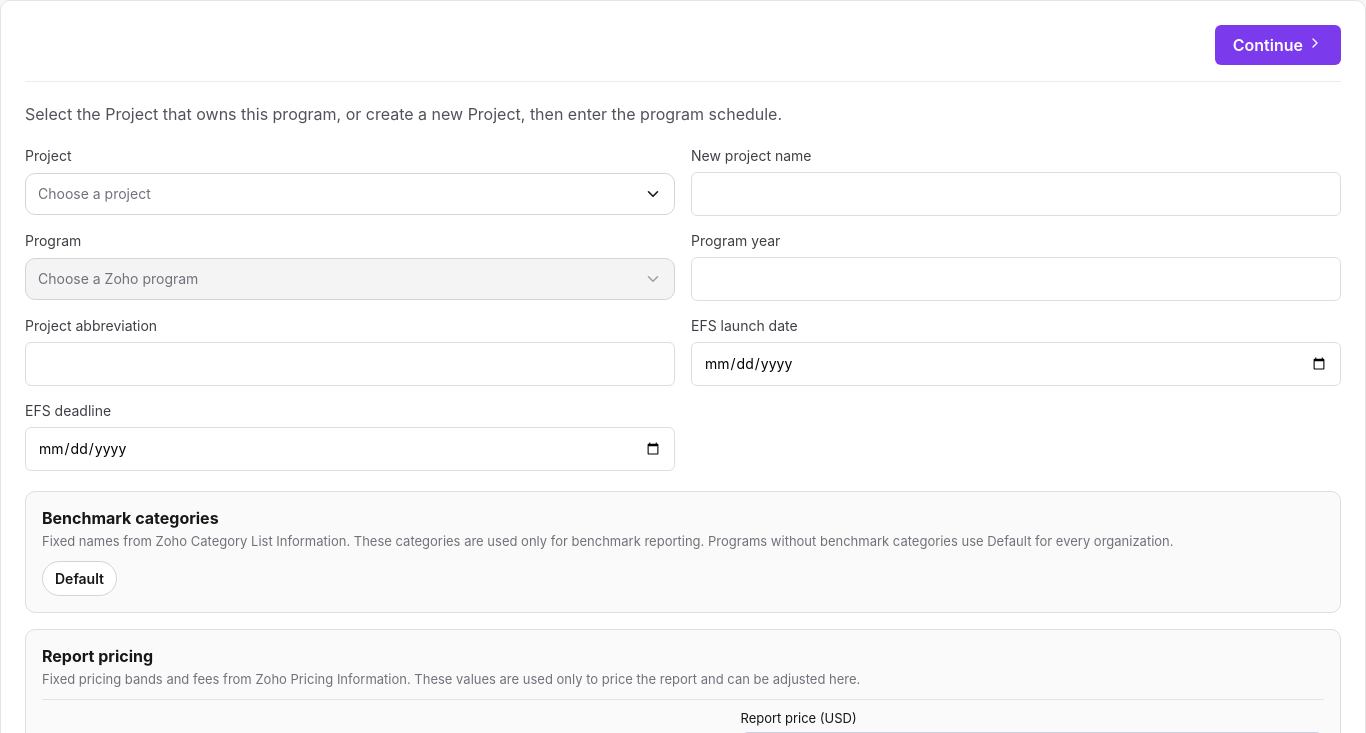
Test: historical import duplicate program check › offers the existing program and closes with Cancel or Escape
The image size is (1366, 733).
Select "Indiana" in the dropdown labelled "Project Choose a project": (350, 181) x1=25 y1=147 x2=675 y2=216
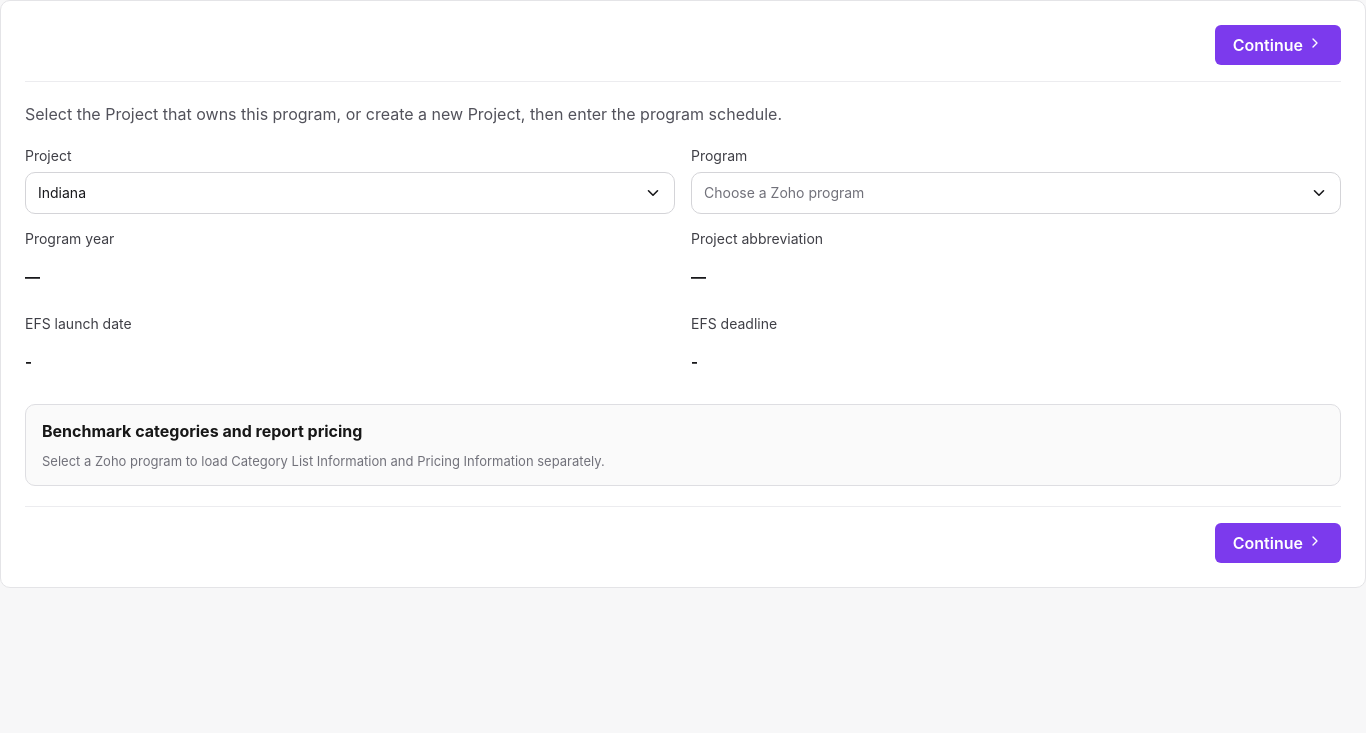
Select "Indiana 2026 (2026)" in the dropdown labelled "Program Choose a Zoho program": (1016, 180) x1=691 y1=147 x2=1341 y2=214
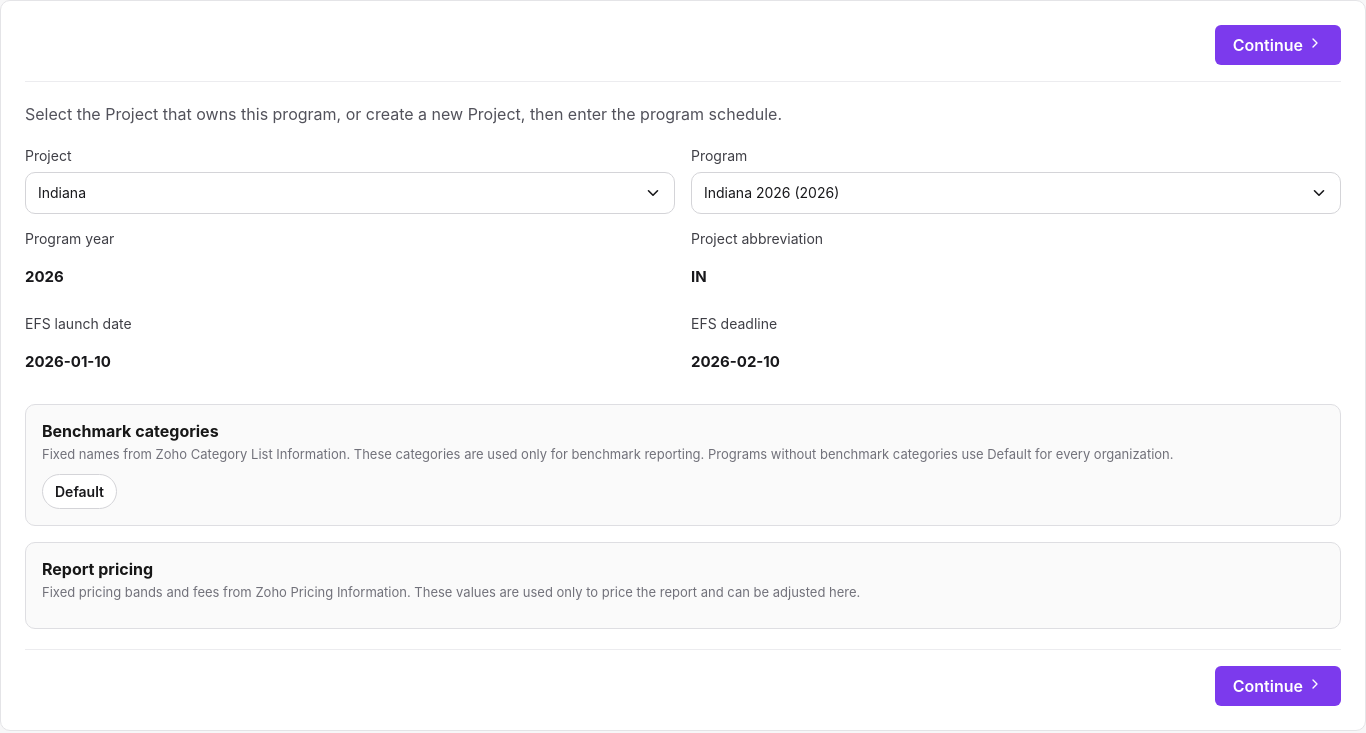
Click the 1st button "Continue": (1278, 45) x1=1215 y1=25 x2=1341 y2=65
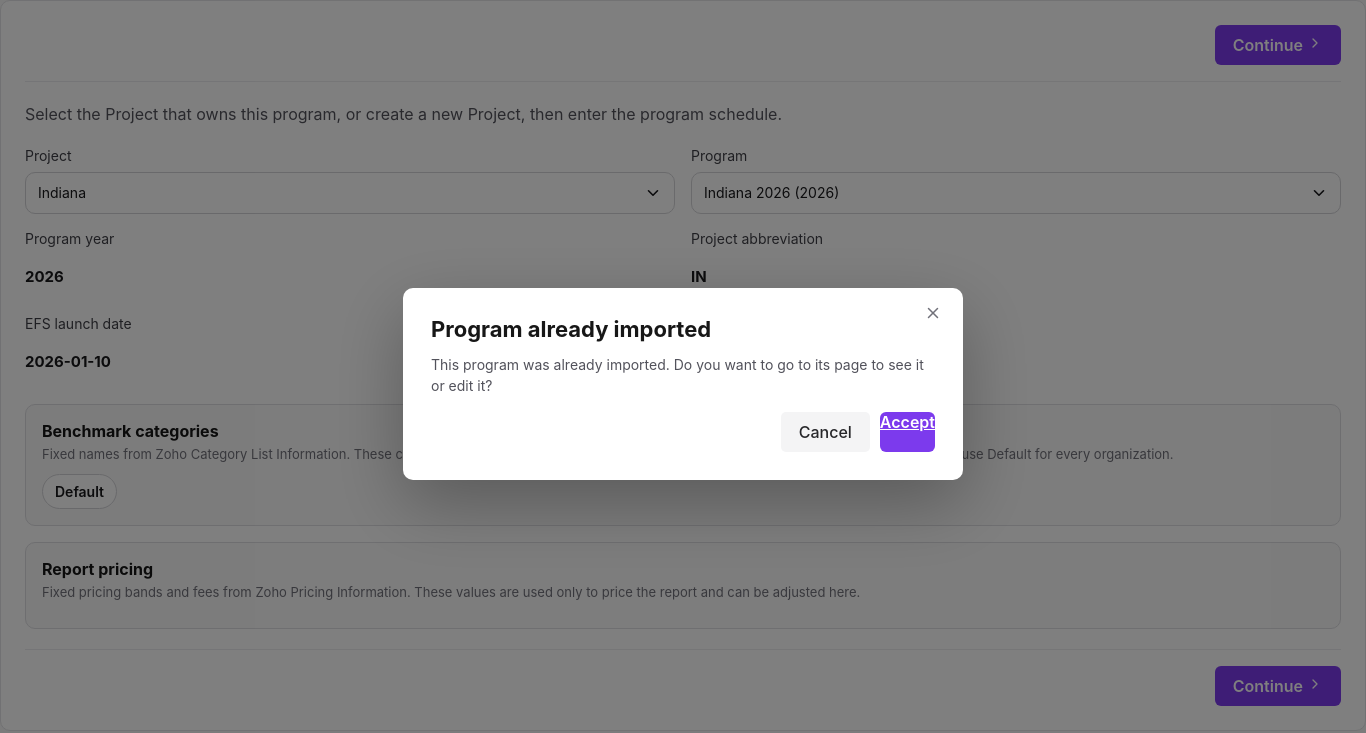
Expected: the dialog "Program already imported" is shown, x1=403 y1=288 x2=963 y2=480
Expected: the text "This program was already imported. Do you want to go to its page to see it or edit it?" is shown, x1=431 y1=356 x2=924 y2=394
Click the button "Cancel": (825, 432) x1=781 y1=412 x2=870 y2=452
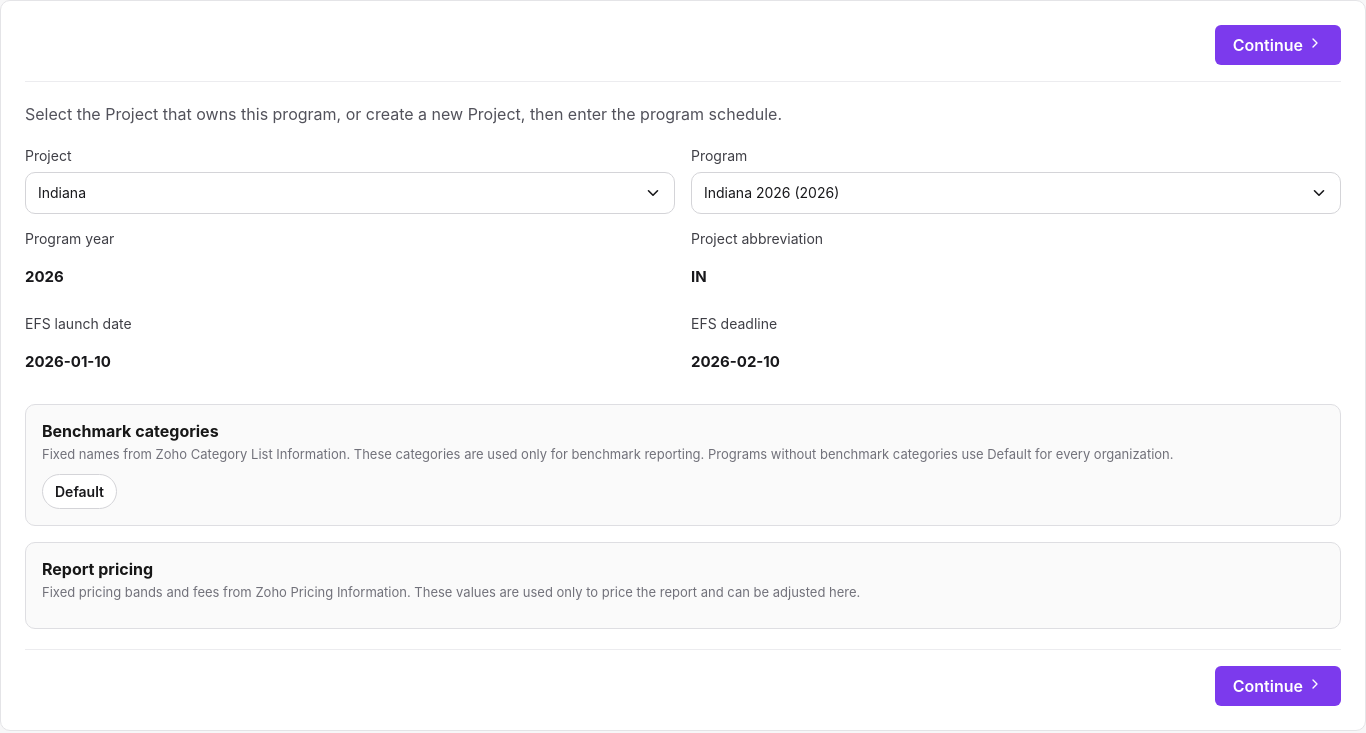
Expected: the dialog is gone
Click the 1st button "Continue": (1278, 45) x1=1215 y1=25 x2=1341 y2=65
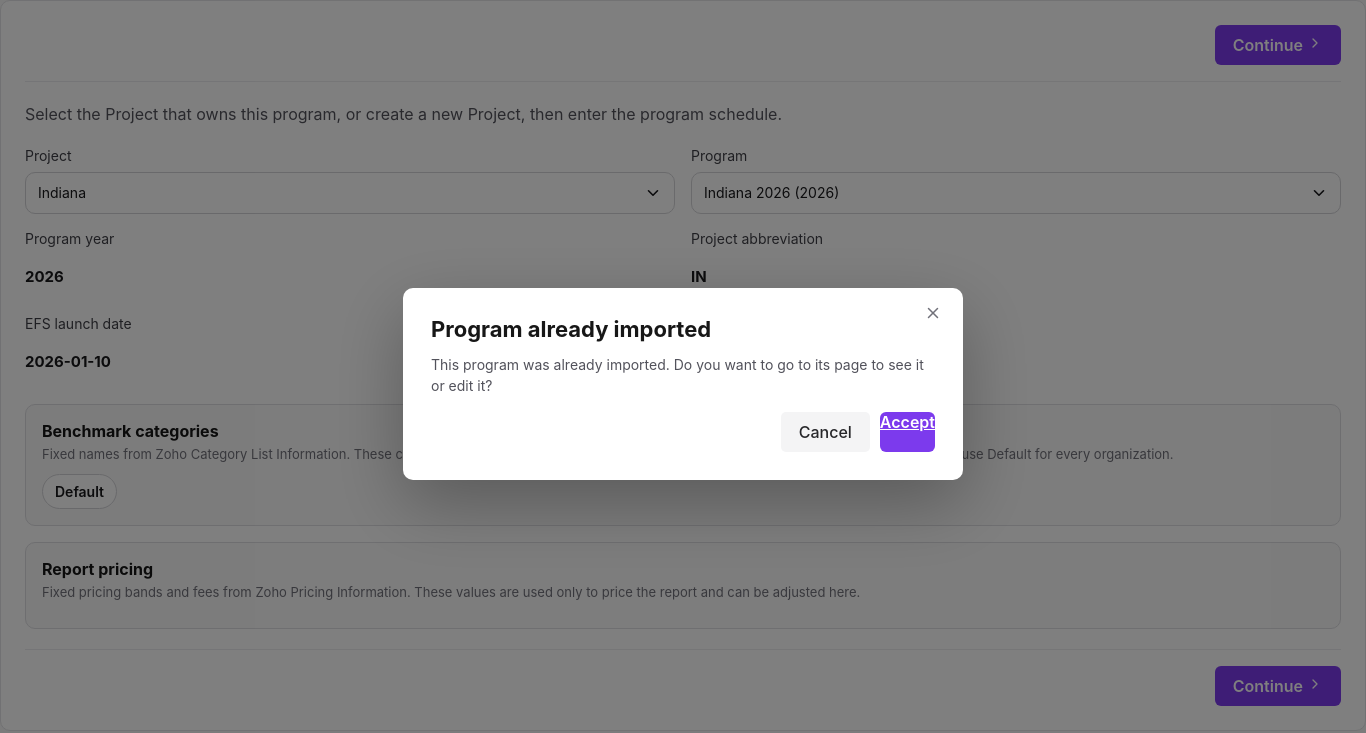
Expected: the dialog "Program already imported" is shown, x1=403 y1=288 x2=963 y2=480
Press Escape
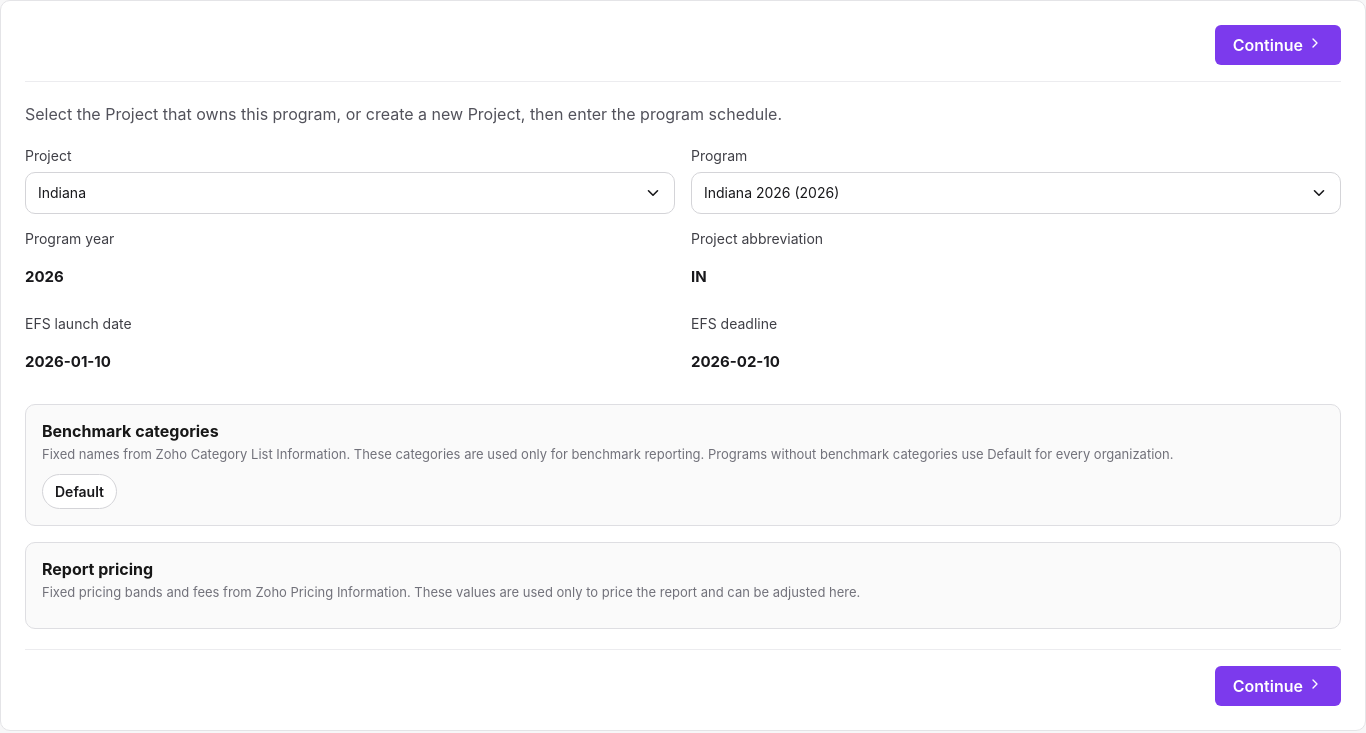
Expected: the dialog is gone
